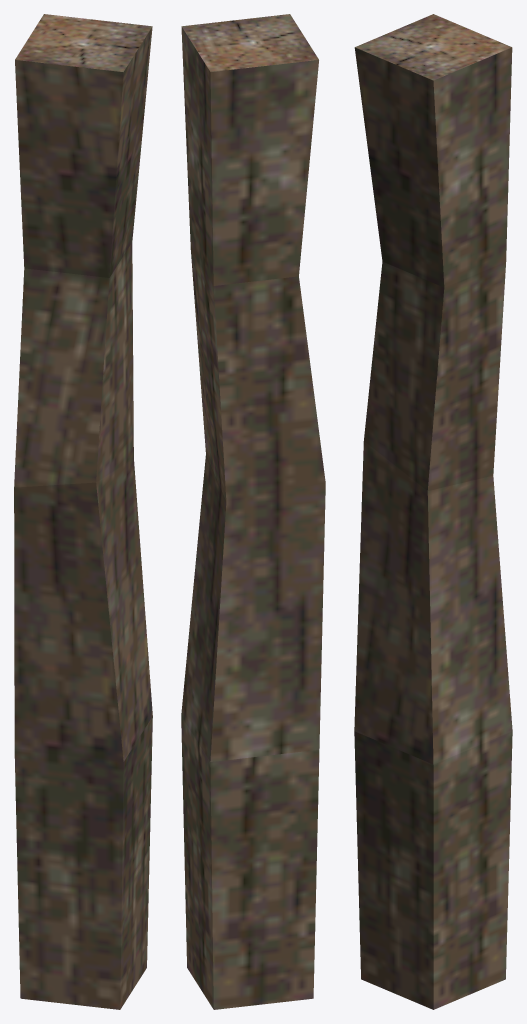
File: wooden_fence_pole_alt.fbx
The picture shows the model from 3 angles, left to right: view 1: azimuth 30°, elevation 25°; view 2: azimuth 150°, elevation 25°; view 3: azimuth 270°, elevation 25°; orthographic projection.
Parts seen in each view (by area): view 1: wooden_fence_pole_alt; view 2: wooden_fence_pole_alt; view 3: wooden_fence_pole_alt.
Part boxes in pixels (<box>): wooden_fence_pole_alt: <box>14,14,152,1009</box>; wooden_fence_pole_alt: <box>181,14,325,1009</box>; wooden_fence_pole_alt: <box>354,14,512,1009</box>.
Bounding box in the file's own units: 18.91 × 120 × 18.45.
1 material, 1 textured.
